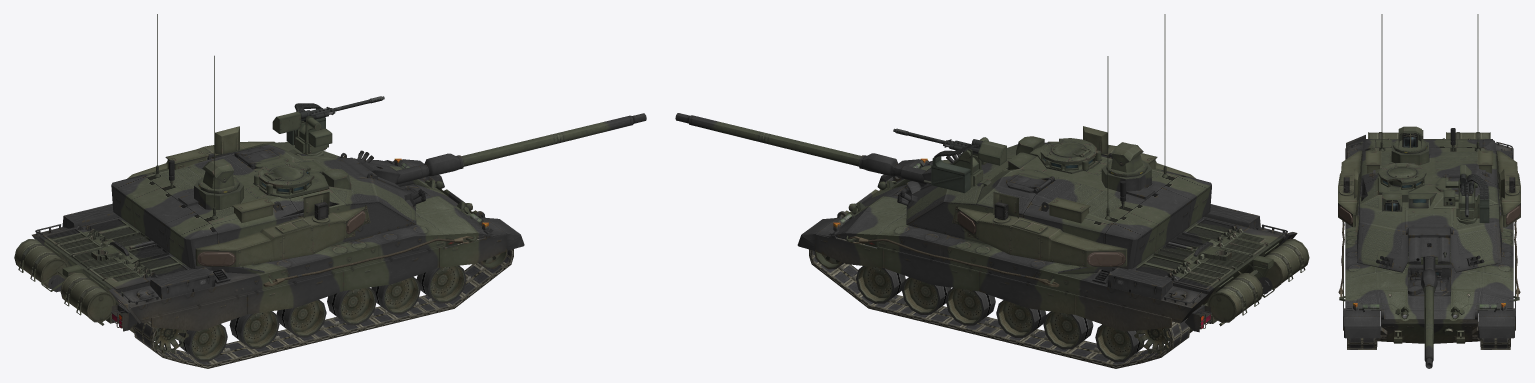
File: challenger_3.glb
The picture shows the model from 3 angles, left to right: view 1: azimuth 30°, elevation 25°; view 2: azimuth 150°, elevation 25°; view 3: azimuth 270°, elevation 25°; orthographic projection. The views are drawn at different scales.
Parts seen in each view (by area): view 1: hull, turret, trophy, skirts, track, fueltank2, weapon, sensorback, wheel8, wheel12, wheel4, toolbox (+11 smaller); view 2: hull, turret, skirts, trophy, track2, fueltank2, weapon, sensorback, wheel11, wheel7, wheel3, toolbox2 (+11 smaller); view 3: turret, hull, trophy, guard, mount, weapon, sensorback, bowobjects, mount2, fueltank2, fireexting, cable2 (+13 smaller).
Part boxes in pixels (x1=…): hull: x1=32, y1=160, x2=491, y2=332; turret: x1=111, y1=142, x2=416, y2=268; trophy: x1=127, y1=126, x2=370, y2=266; skirts: x1=151, y1=159, x2=506, y2=331; track: x1=133, y1=237, x2=513, y2=368; fueltank2: x1=14, y1=239, x2=118, y2=325; weapon: x1=395, y1=113, x2=646, y2=184; sensorback: x1=194, y1=159, x2=243, y2=209; wheel8: x1=327, y1=287, x2=376, y2=325; wheel12: x1=229, y1=311, x2=279, y2=348; wheel4: x1=416, y1=265, x2=466, y2=303; toolbox: x1=150, y1=267, x2=215, y2=299; hull: x1=830, y1=160, x2=1297, y2=332; turret: x1=906, y1=138, x2=1211, y2=269; skirts: x1=815, y1=159, x2=1171, y2=331; trophy: x1=952, y1=126, x2=1195, y2=267; track2: x1=809, y1=237, x2=1190, y2=368; fueltank2: x1=1201, y1=239, x2=1309, y2=326; weapon: x1=675, y1=113, x2=926, y2=184; sensorback: x1=1101, y1=142, x2=1151, y2=191; wheel11: x1=1043, y1=311, x2=1093, y2=349; wheel7: x1=946, y1=288, x2=995, y2=325; wheel3: x1=856, y1=266, x2=905, y2=303; toolbox2: x1=1107, y1=267, x2=1172, y2=300; turret: x1=1357, y1=139, x2=1501, y2=272; hull: x1=1345, y1=135, x2=1513, y2=343; trophy: x1=1338, y1=150, x2=1520, y2=232; guard: x1=1344, y1=308, x2=1514, y2=338; mount: x1=1408, y1=227, x2=1450, y2=264; weapon: x1=1421, y1=257, x2=1437, y2=368; sensorback: x1=1391, y1=126, x2=1428, y2=165; bowobjects: x1=1377, y1=309, x2=1480, y2=343; mount2: x1=1443, y1=179, x2=1479, y2=218; fueltank2: x1=1368, y1=130, x2=1490, y2=138; fireexting: x1=1346, y1=303, x2=1513, y2=311; cable2: x1=1338, y1=220, x2=1520, y2=301.
Size of the model in its own units: 11.91 by 5.57 by 3.76.
7 materials, 7 textured.
